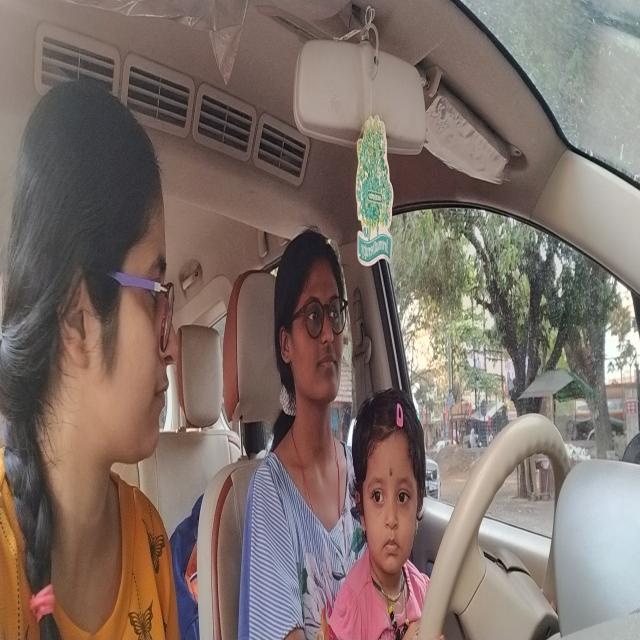child: (351, 394, 422, 576)
person: (50, 84, 172, 457), (278, 232, 347, 406)
